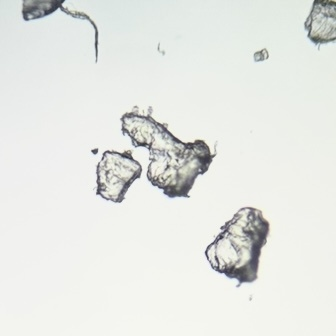microplastic: (120, 106, 218, 198), (205, 207, 269, 287), (22, 1, 98, 63), (96, 151, 142, 202), (304, 1, 336, 51), (254, 48, 269, 62), (91, 149, 99, 154)
